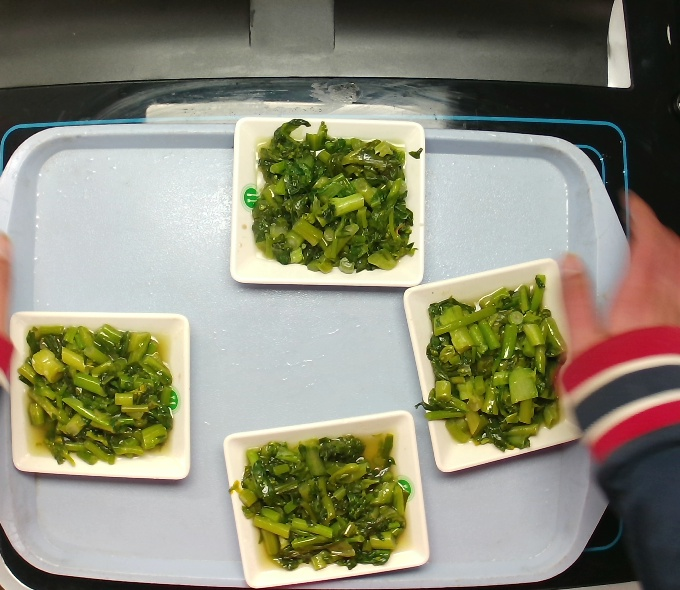wcq-YouCaiHua: (421, 276, 592, 460), (242, 116, 421, 283), (234, 421, 413, 582), (21, 321, 176, 471)
